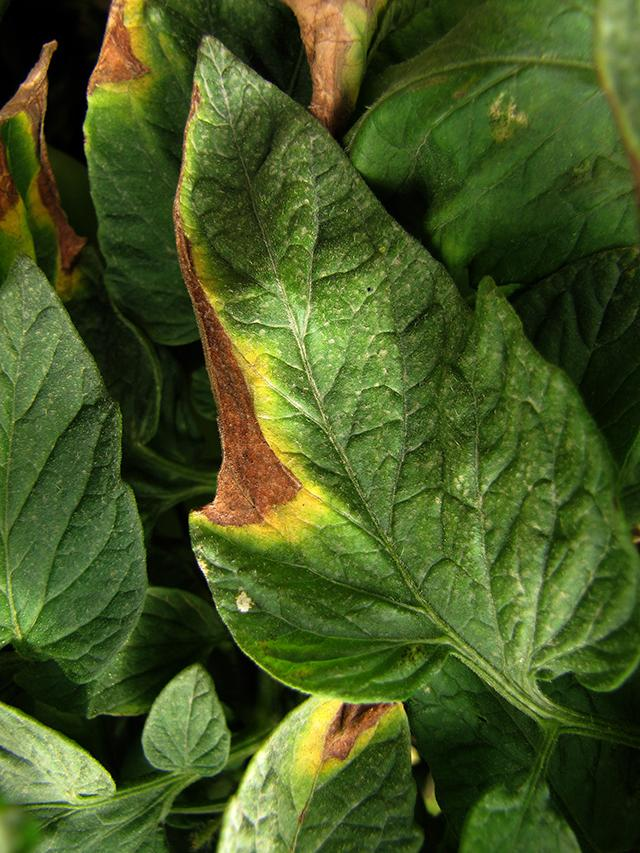Tomato leaf bacterial spot: (170, 32, 627, 718)
